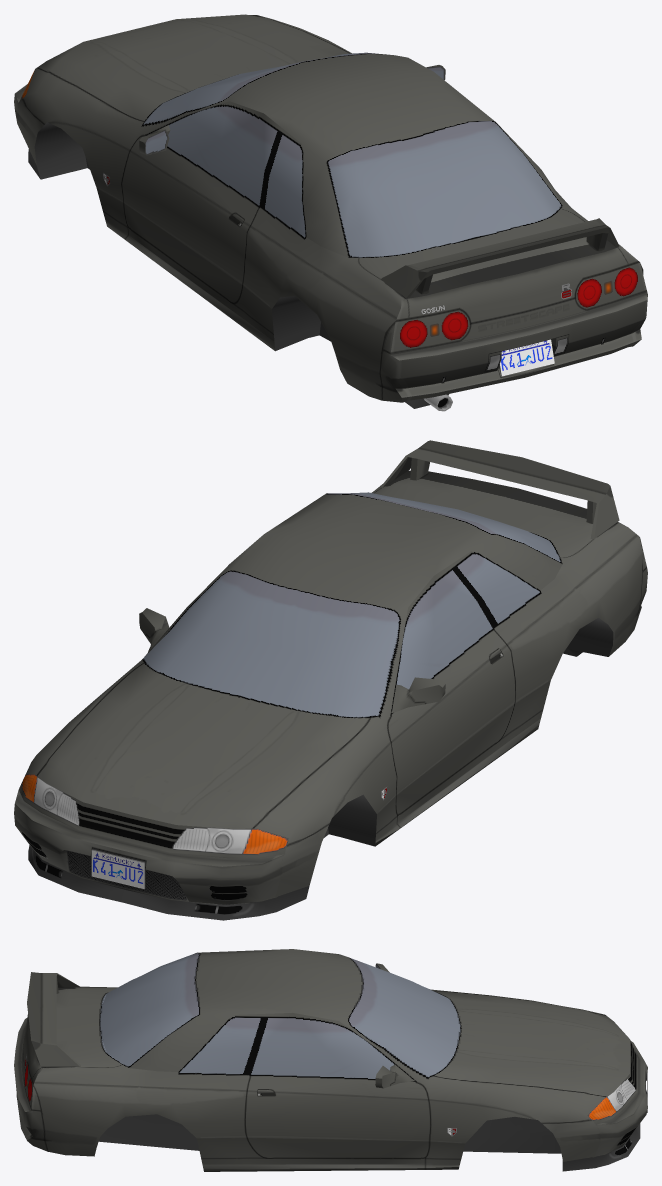
The model's file is vehicles_fhqR32GTR.fbx.
3 renders of one model, top to bottom at view 1: azimuth 30°, elevation 25°; view 2: azimuth 150°, elevation 25°; view 3: azimuth 270°, elevation 25°, orthographic. The views are drawn at different scales.
Visible parts, largest first — view 1: fhqR32GTRExport2; view 2: fhqR32GTRExport2; view 3: fhqR32GTRExport2.
Part boxes in pixels (bbox=[...]): fhqR32GTRExport2: bbox=[14, 14, 647, 411]; fhqR32GTRExport2: bbox=[14, 440, 647, 920]; fhqR32GTRExport2: bbox=[14, 949, 647, 1171].
Bounding box in the file's own units: 2.31 × 1.38 × 5.43.
